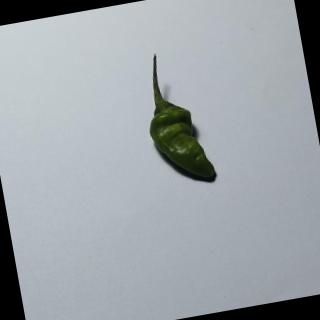Cabai Hijau: (135, 44, 228, 198)
